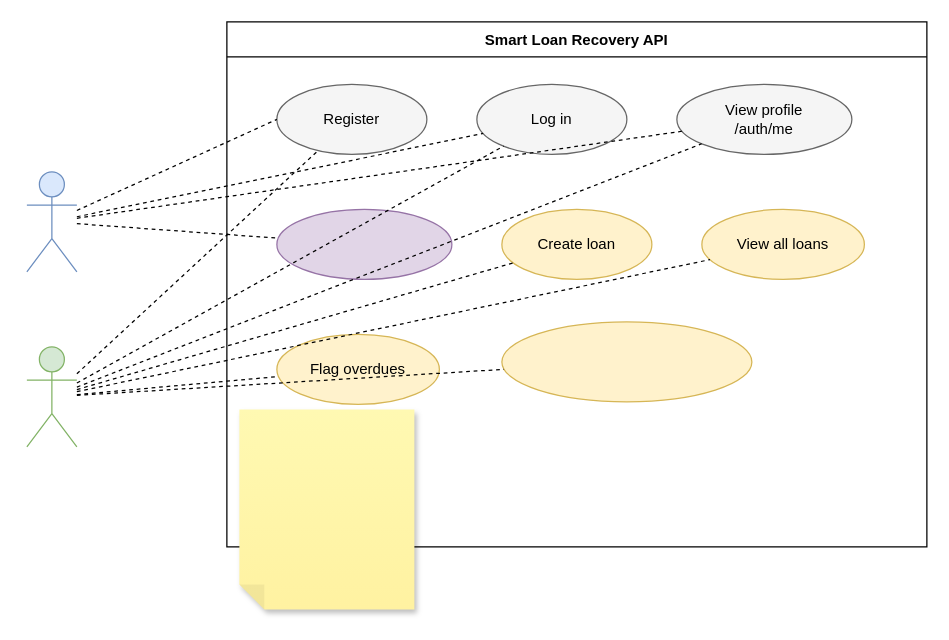
The diagram is 949 pixels wide and 640 high, and some of its shapes have lost their labels. Here are the shapes that lost their labels. From the top down, the centre of each, then its label:
[51,221]: Borrower
[364,243]: View own loans
[626,361]: Recovery recommendation /recommend/{id}
[51,396]: Lender
